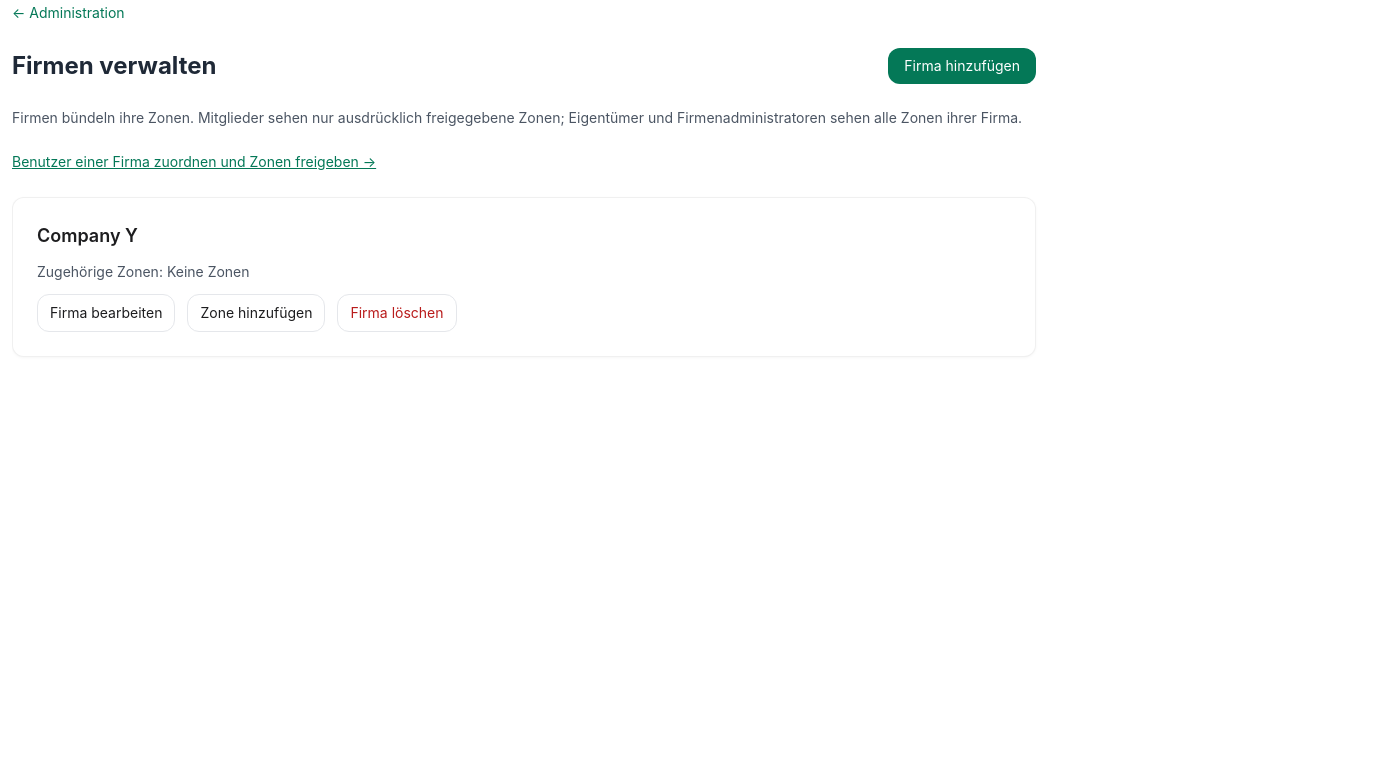
Test: company deletion needs its exact name and displays server blockers
This screenshot has width=1378, height=768.
Click the button "Firma löschen".
click(397, 313)  # box [337, 294, 456, 332]
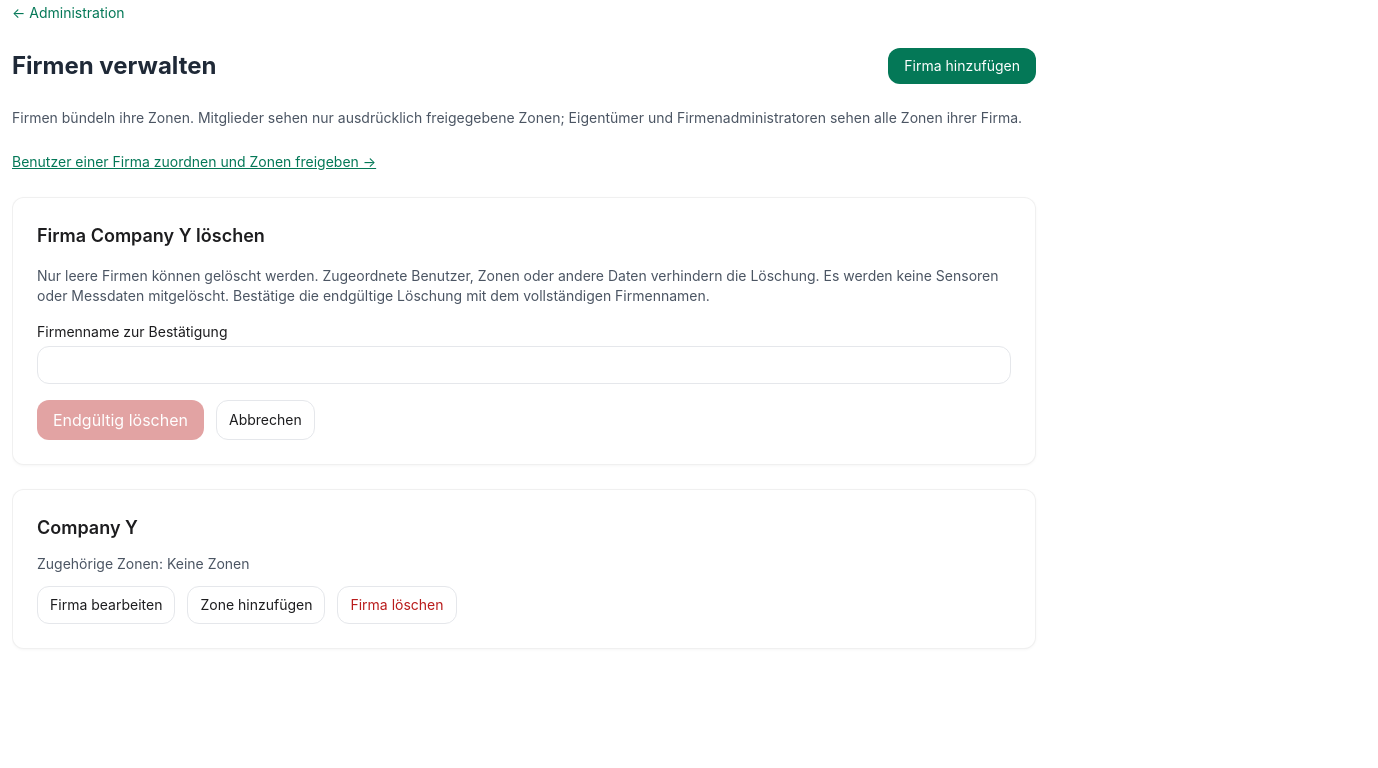
Expected: the button "Endgültig löschen" is disabled, [37, 400, 204, 440]
Type "wrong" into the field labelled "Firmenname zur Bestätigung".
click(524, 365); type("wrong")  # box [37, 346, 1011, 384]
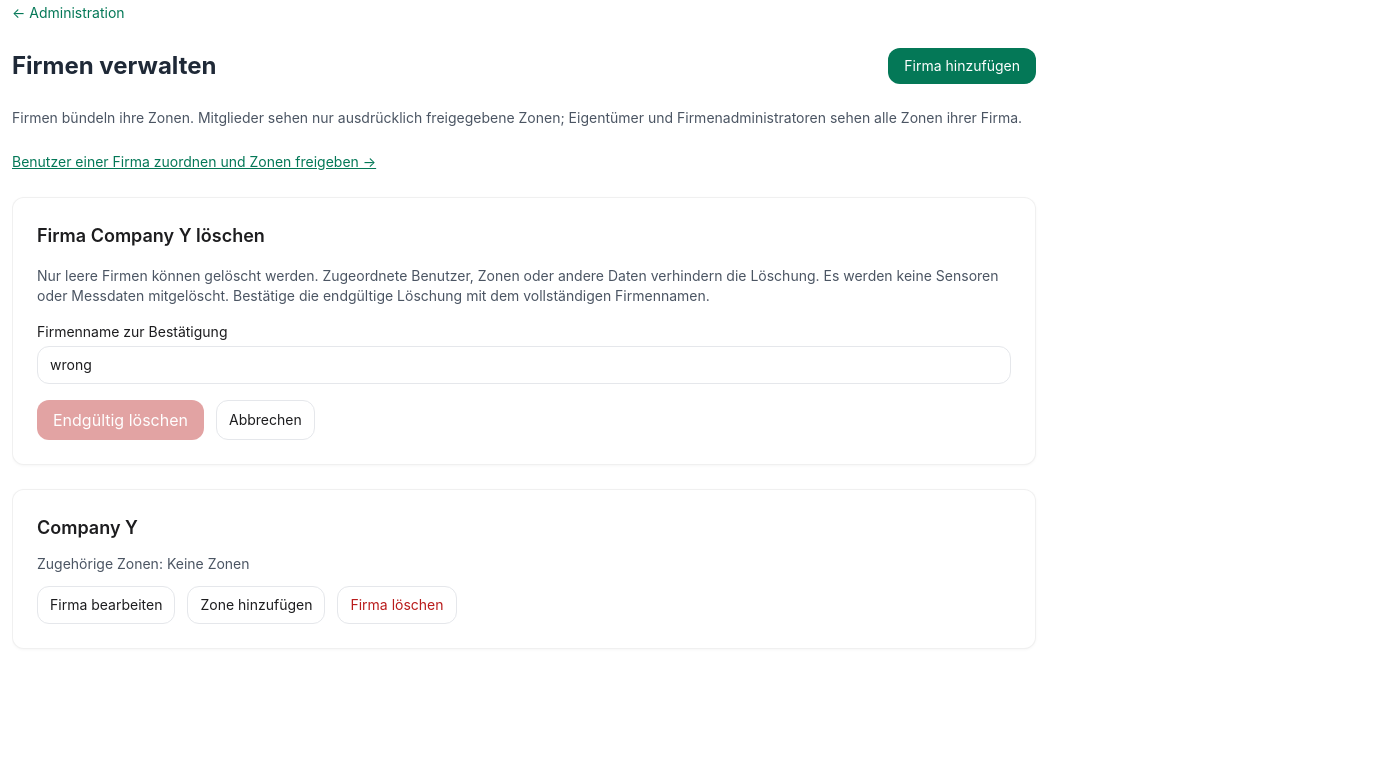
Expected: the button "Endgültig löschen" is disabled, [37, 400, 204, 440]
Replace the text in the field labelled "Firmenname zur Bestätigung" with "Company Y" at (524, 365), box [37, 346, 1011, 384]
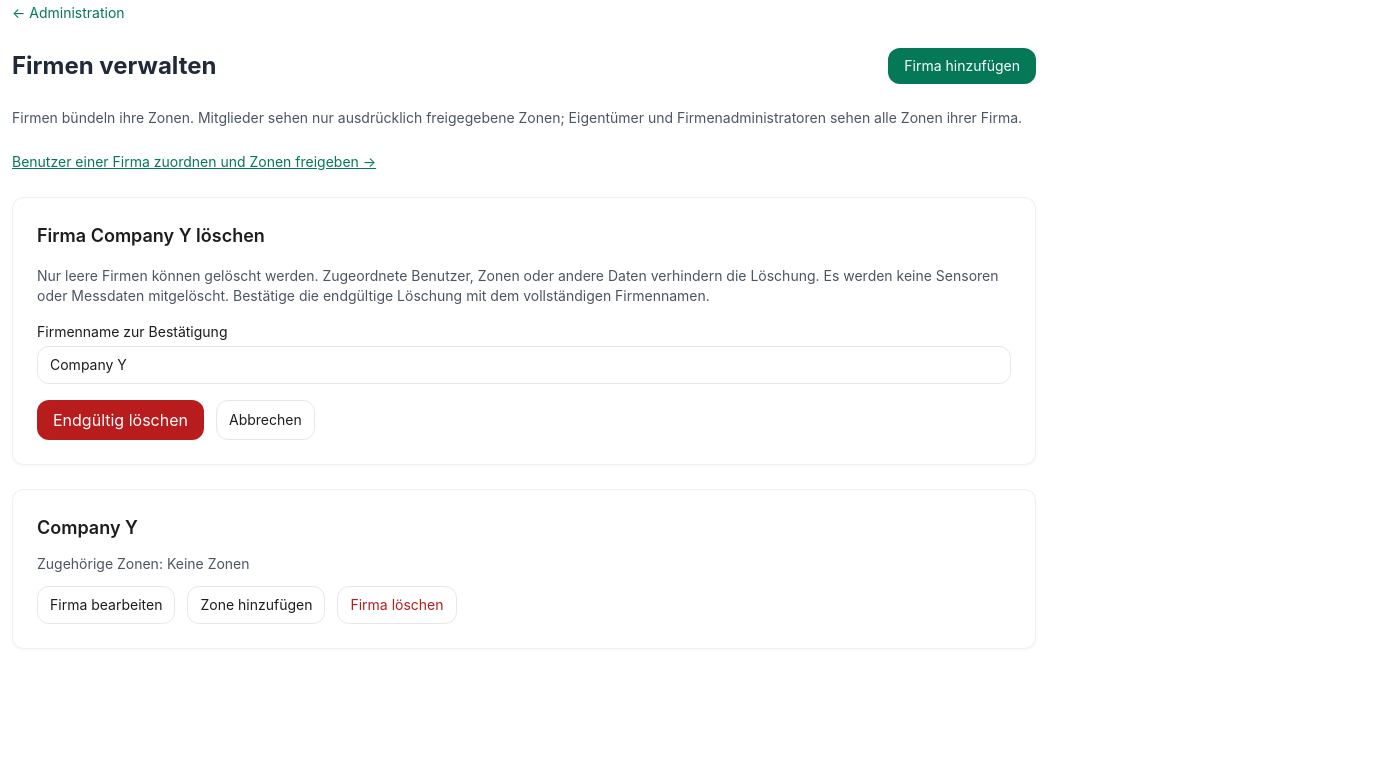
Click the button "Endgültig löschen".
click(120, 420)  # box [37, 400, 204, 440]
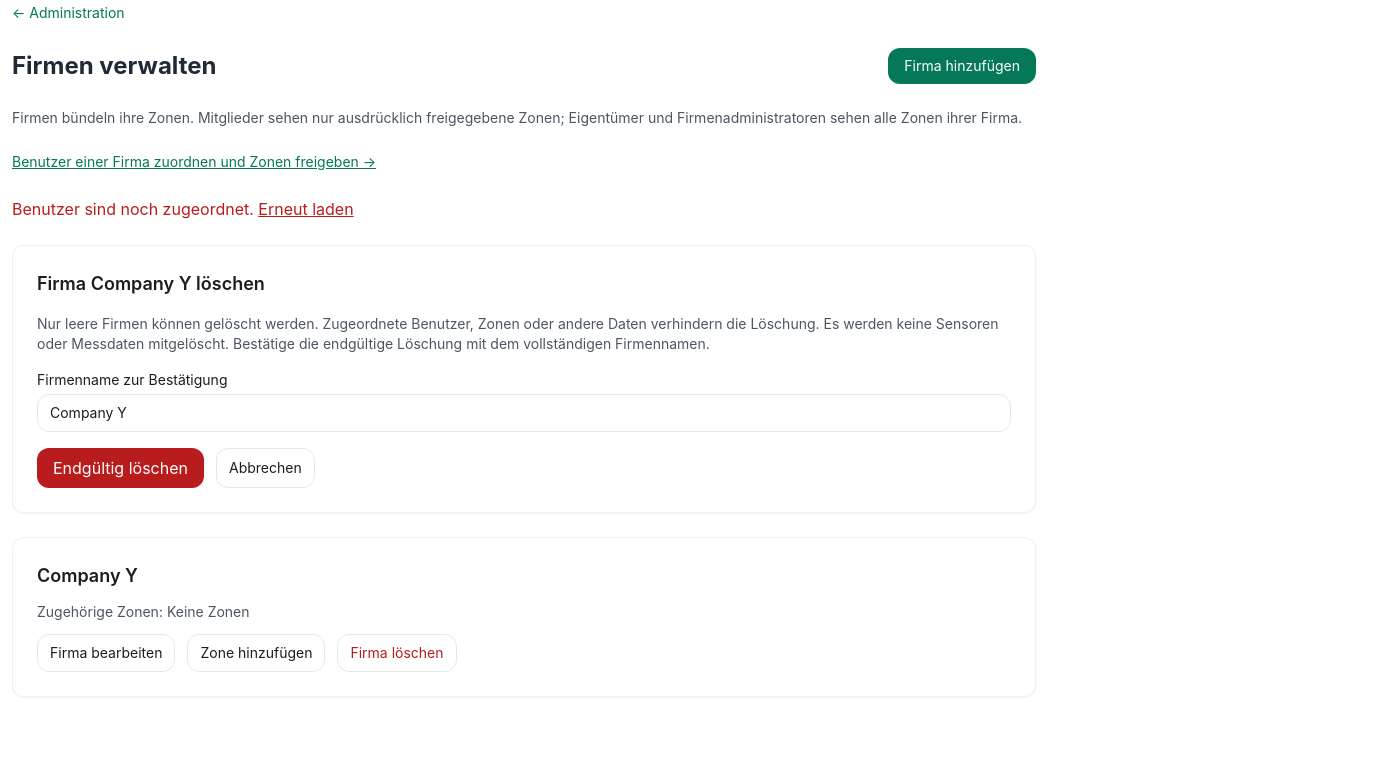
Expected: the heading "Company Y" is shown, [37, 565, 138, 586]
Expected: the message shows "Benutzer sind noch zugeordnet.", [12, 199, 254, 219]
